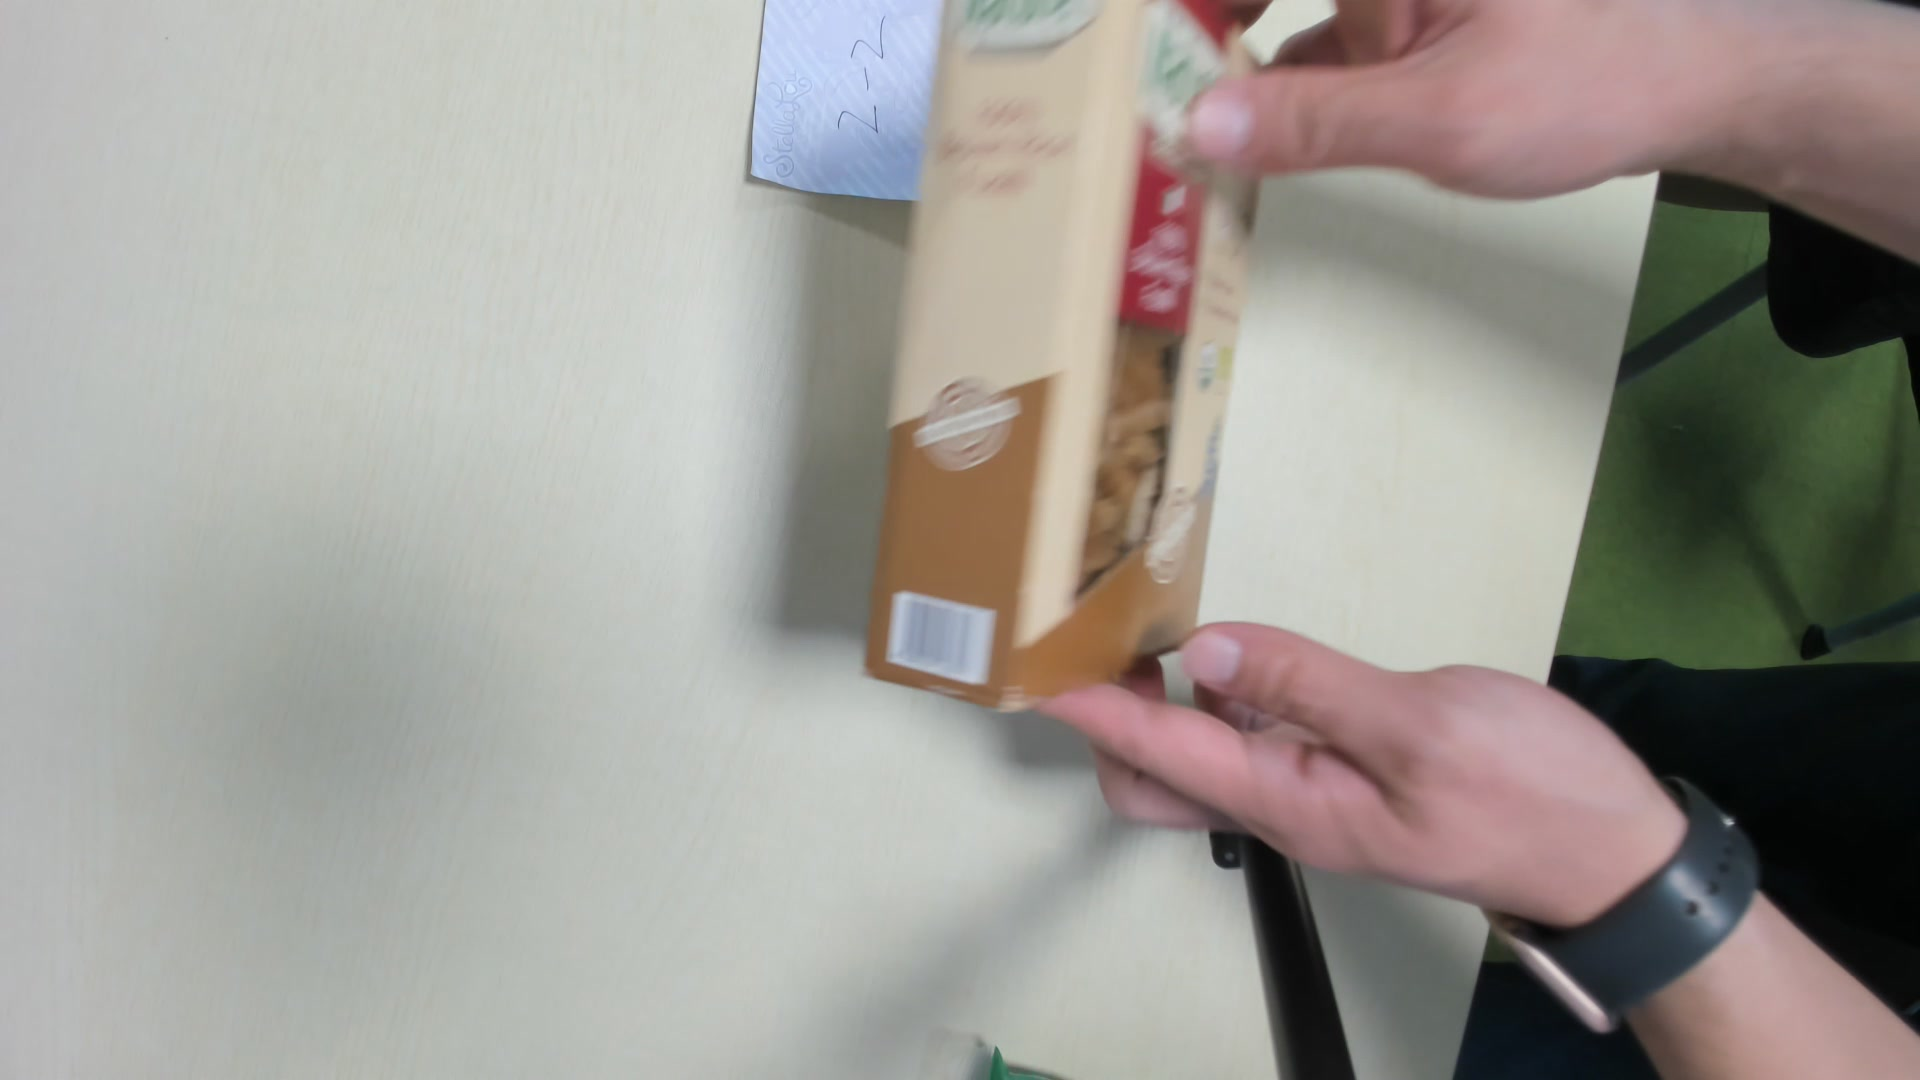Pasta_200-299g_Halal_Healthy: (869, 3, 1265, 709)
